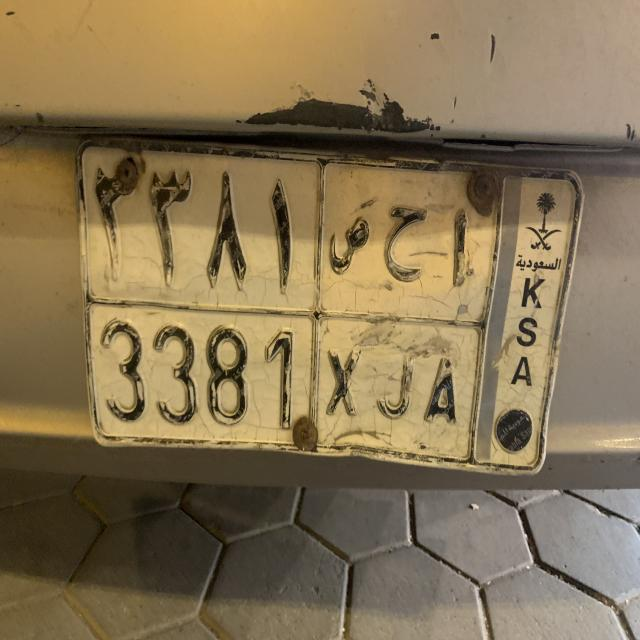license_plate: (71, 128, 588, 488)
